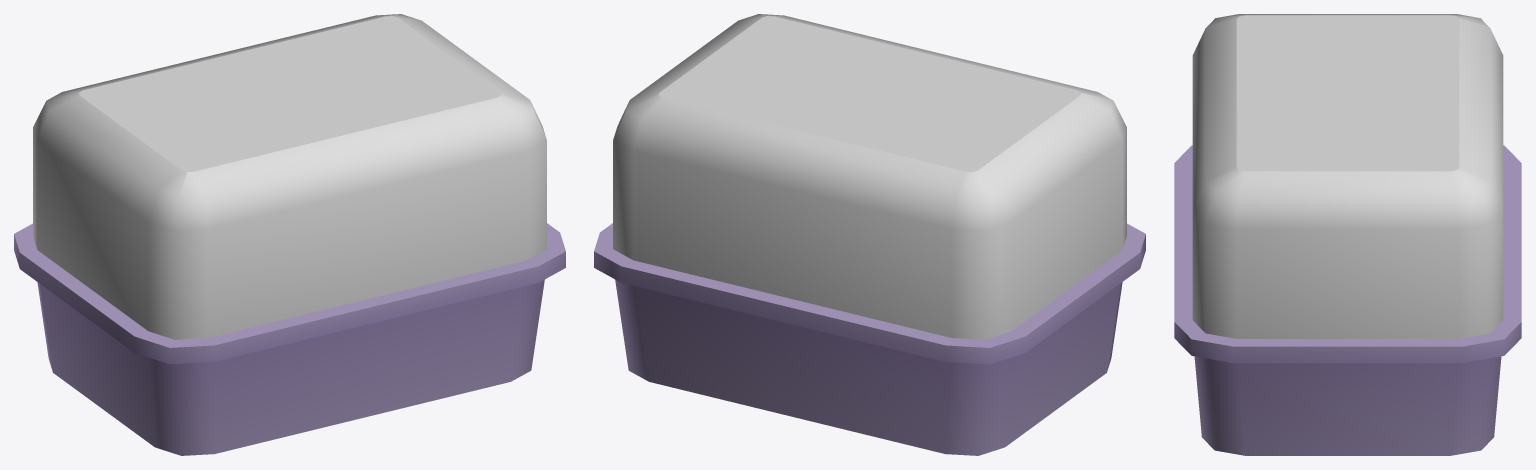
File: hamster-cage.glb
The picture shows the model from 3 angles, left to right: view 1: azimuth 30°, elevation 25°; view 2: azimuth 150°, elevation 25°; view 3: azimuth 270°, elevation 25°; orthographic projection.
Parts seen in each view (by area): view 1: hamster-cage; view 2: hamster-cage; view 3: hamster-cage.
Boxes of the visible parts, x1,y1,x2,y2 form: hamster-cage: [14, 14, 565, 455]; hamster-cage: [594, 14, 1145, 455]; hamster-cage: [1174, 14, 1521, 455].
Size of the model in its own units: 0.675 by 0.41 by 0.475.
